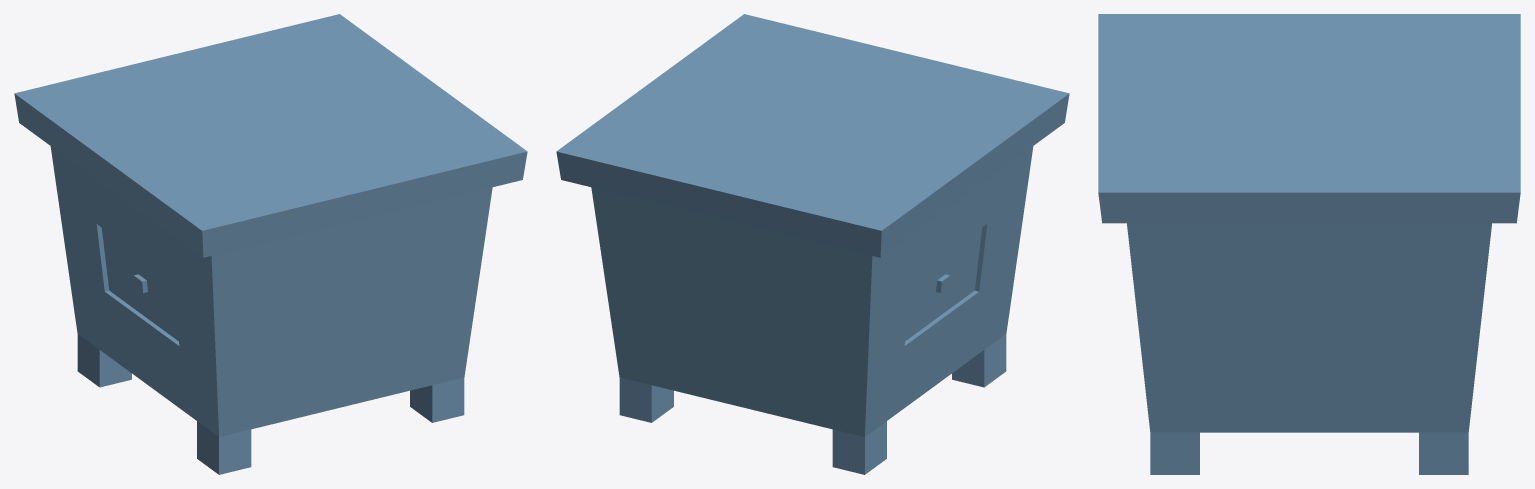
File: buro.obj
The picture shows the model from 3 angles, left to right: view 1: azimuth 30°, elevation 25°; view 2: azimuth 150°, elevation 25°; view 3: azimuth 270°, elevation 25°; orthographic projection. The views are drawn at different scales.
Visible parts, largest first — view 1: Cube; view 2: Cube; view 3: Cube.
Part boxes in pixels (bbox=[...]): Cube: bbox=[14, 14, 527, 474]; Cube: bbox=[556, 14, 1069, 474]; Cube: bbox=[1098, 14, 1520, 474].
Bounding box in the file's own units: 0.645 × 0.5129 × 0.645.
Materials: 1 (1 with a texture image).
